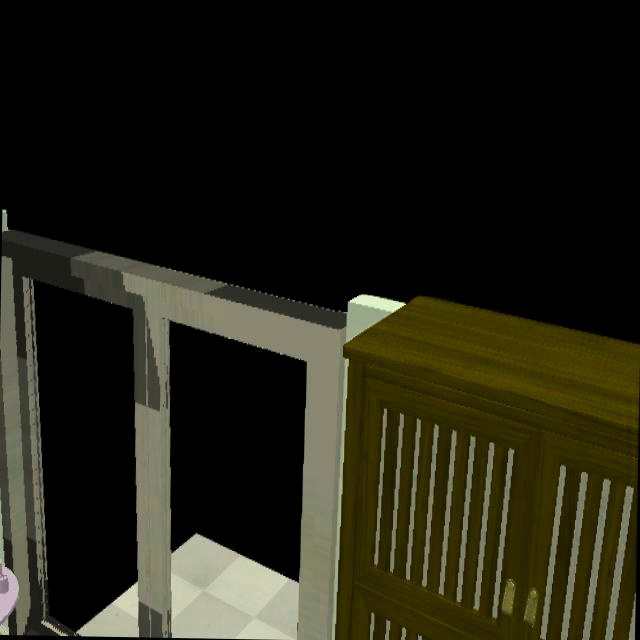wardrobe: (332, 296, 640, 640)
